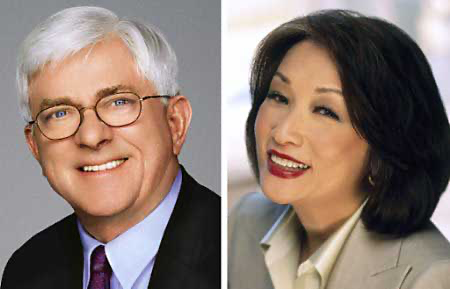Face: (25, 79, 181, 219), (246, 65, 379, 215)
